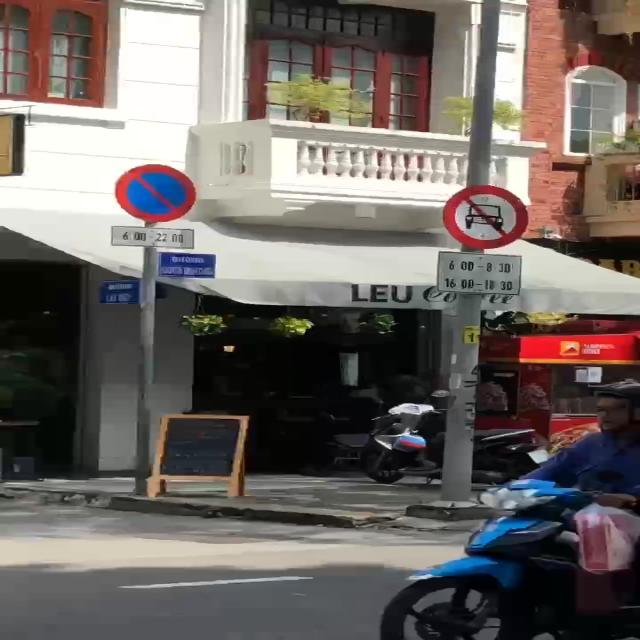Bien bao cam do xe: (111, 161, 198, 224)
Bien bao cam xe oto: (436, 182, 535, 254)
